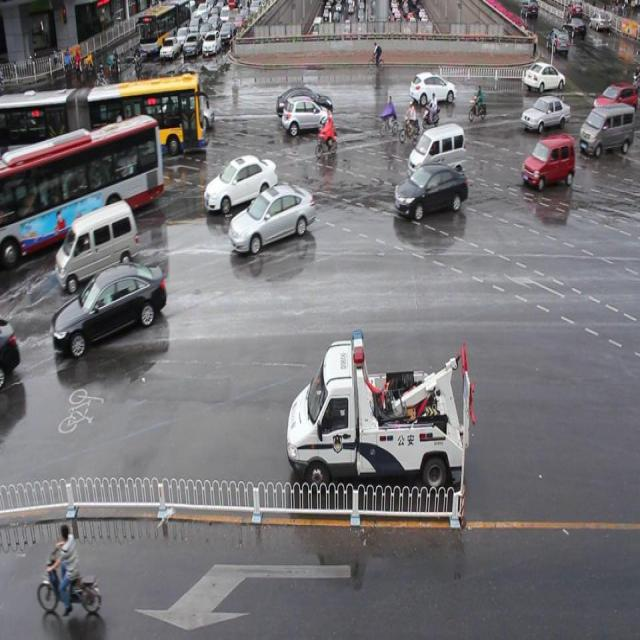bus: (285, 325, 473, 498)
car: (52, 264, 167, 353), (230, 186, 314, 249), (204, 154, 277, 211), (393, 164, 468, 216), (520, 135, 573, 186), (158, 90, 213, 130), (280, 94, 332, 132), (275, 83, 332, 117), (520, 94, 569, 128), (410, 70, 455, 104), (522, 61, 564, 92)
truck: (56, 198, 138, 294), (576, 100, 640, 153), (407, 124, 465, 178)
van: (1, 118, 165, 259), (1, 74, 206, 156)
